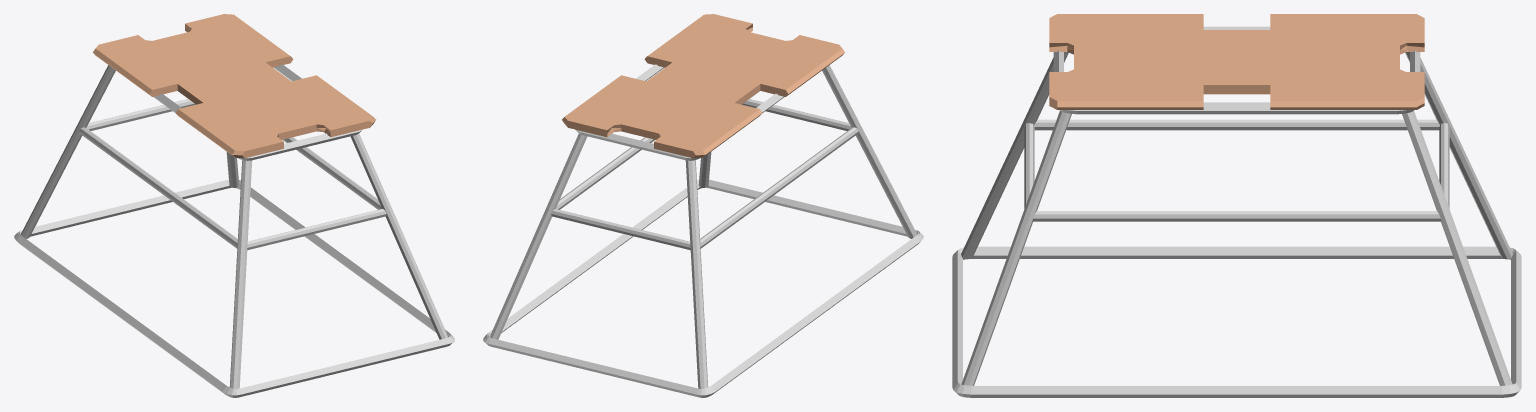
File: KlimToestel01_LOD0.fbx
3 renders of one model, left to right at view 1: azimuth 30°, elevation 25°; view 2: azimuth 150°, elevation 25°; view 3: azimuth 270°, elevation 25°, orthographic. The views are drawn at different scales.
Parts seen in each view (by area): view 1: Klimtoestel01_LOD0; view 2: Klimtoestel01_LOD0; view 3: Klimtoestel01_LOD0.
Boxes of the visible parts, bbox=[...] form: Klimtoestel01_LOD0: bbox=[14, 14, 454, 397]; Klimtoestel01_LOD0: bbox=[483, 14, 923, 397]; Klimtoestel01_LOD0: bbox=[952, 14, 1521, 397].
Size of the model in its own units: 1.44 by 1.26 by 2.4.
